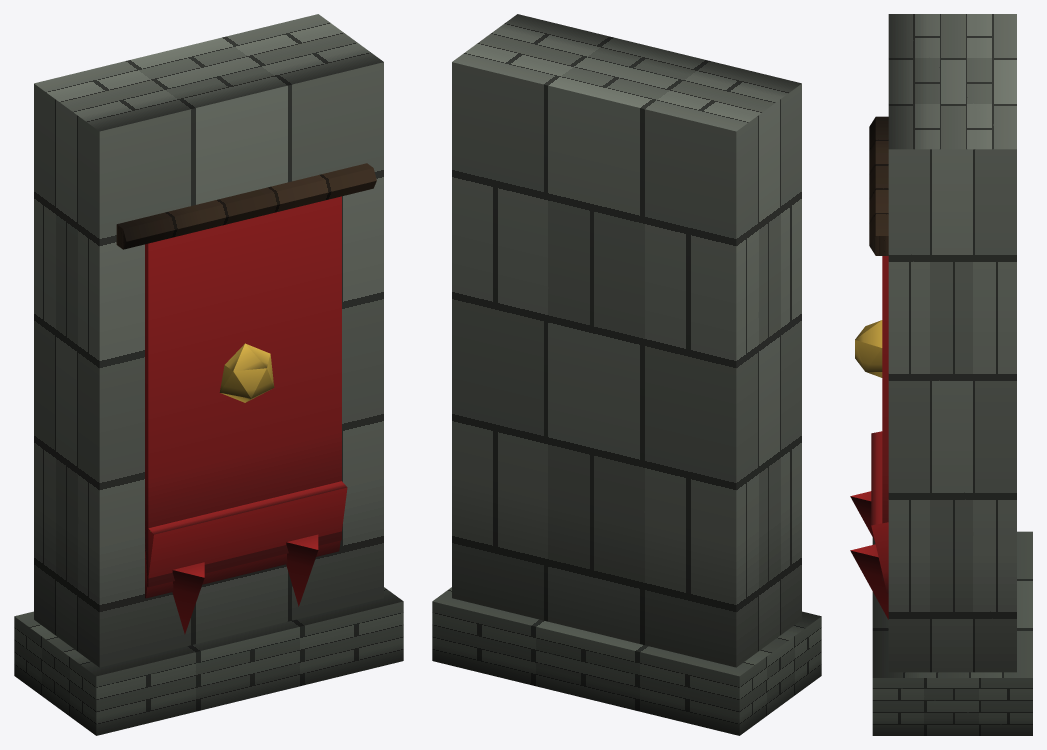
The model's file is banner.gltf.
3 renders of one model, left to right at view 1: azimuth 30°, elevation 25°; view 2: azimuth 150°, elevation 25°; view 3: azimuth 270°, elevation 25°, orthographic. The views are drawn at different scales.
Visible parts, largest first — view 1: banner; view 2: banner; view 3: banner.
Boxes of the visible parts, x1,y1,x2,y2 form: banner: (14,14,403,735); banner: (432,14,821,735); banner: (850,14,1032,735).
Size of the model in its own units: 0.54 by 1 by 0.285.
1 material, 1 textured.
